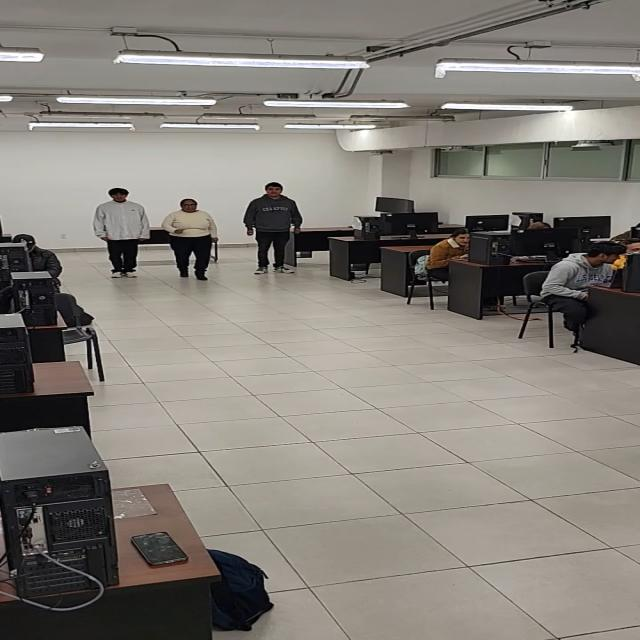Persona: (244, 181, 303, 275), (92, 187, 150, 279), (161, 198, 220, 280)
